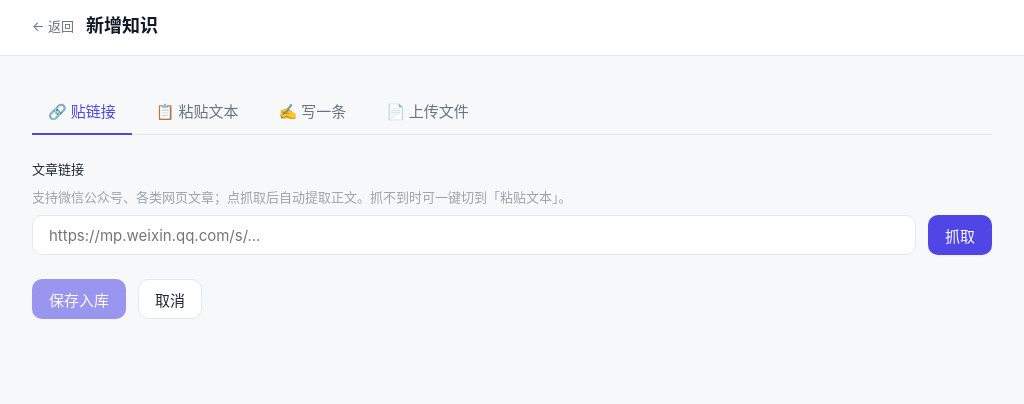
Test case: C-ING-02 / C-ING-04 抓取中与整理中反馈 › 点抓取显示抓取中，成功后显示 AI 整理中
Type "https://mp.weixin.qq.com/s/x" into the field labelled "文章链接". click: [474, 235]
box: [32,215,916,255]
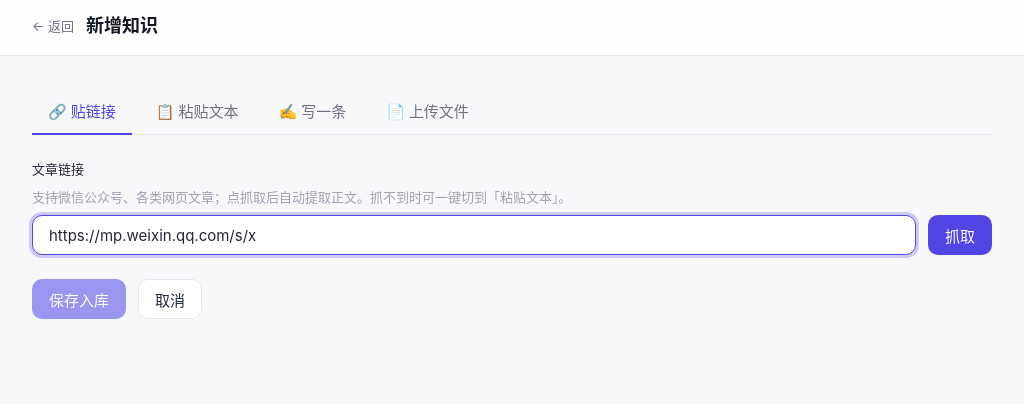
Click the button "抓取". click: [960, 235]
box: [928,215,992,255]
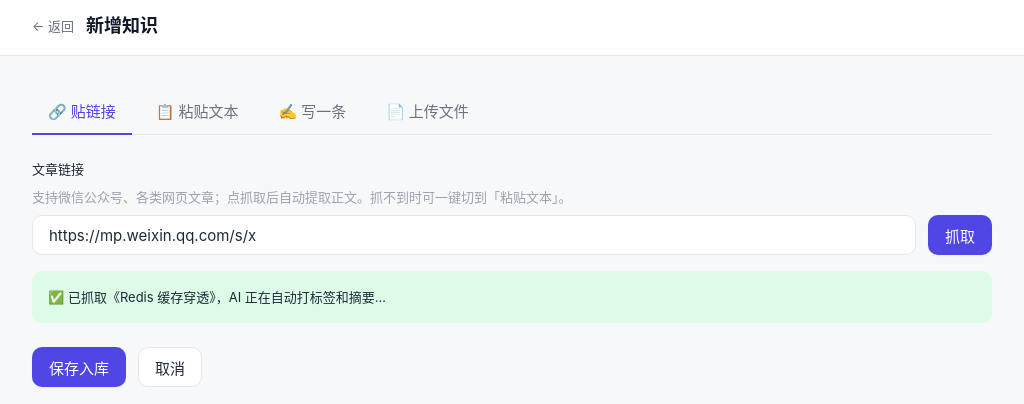
Now the text "✅ 已抓取《Redis 缓存穿透》，AI 正在自动打标签和摘要…" is shown, box [32,271,992,323]
